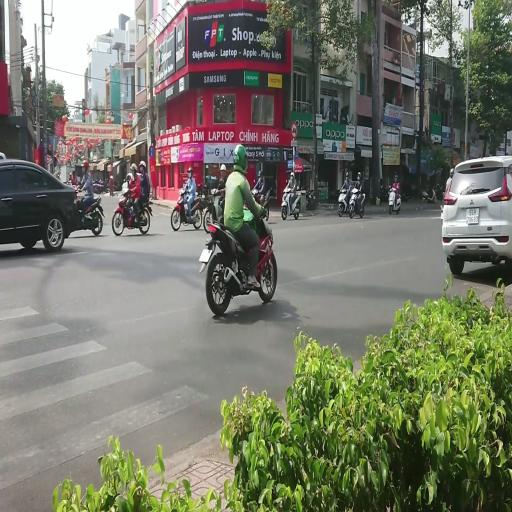bikes: (198, 189, 278, 315), (203, 186, 265, 234), (64, 181, 103, 236), (111, 188, 151, 236), (171, 186, 203, 231), (203, 187, 225, 234), (281, 184, 301, 220), (251, 187, 272, 221), (348, 186, 366, 218), (338, 183, 353, 217), (251, 170, 265, 204), (387, 185, 401, 214), (196, 183, 210, 209), (214, 188, 225, 220), (421, 187, 437, 204), (92, 178, 109, 194), (143, 196, 153, 217), (306, 189, 316, 209)
helmet: (232, 144, 248, 173), (122, 182, 128, 195), (130, 163, 137, 172), (139, 160, 146, 169), (125, 173, 132, 181), (220, 164, 226, 171), (82, 161, 88, 168), (260, 195, 264, 205), (188, 167, 193, 174), (290, 172, 295, 179), (394, 182, 399, 189), (258, 171, 262, 179), (357, 172, 361, 179), (450, 168, 454, 175), (180, 188, 184, 195), (356, 182, 360, 188), (394, 175, 398, 180), (346, 172, 349, 178), (287, 170, 290, 176), (69, 172, 72, 178), (72, 170, 76, 174), (110, 175, 113, 179)
